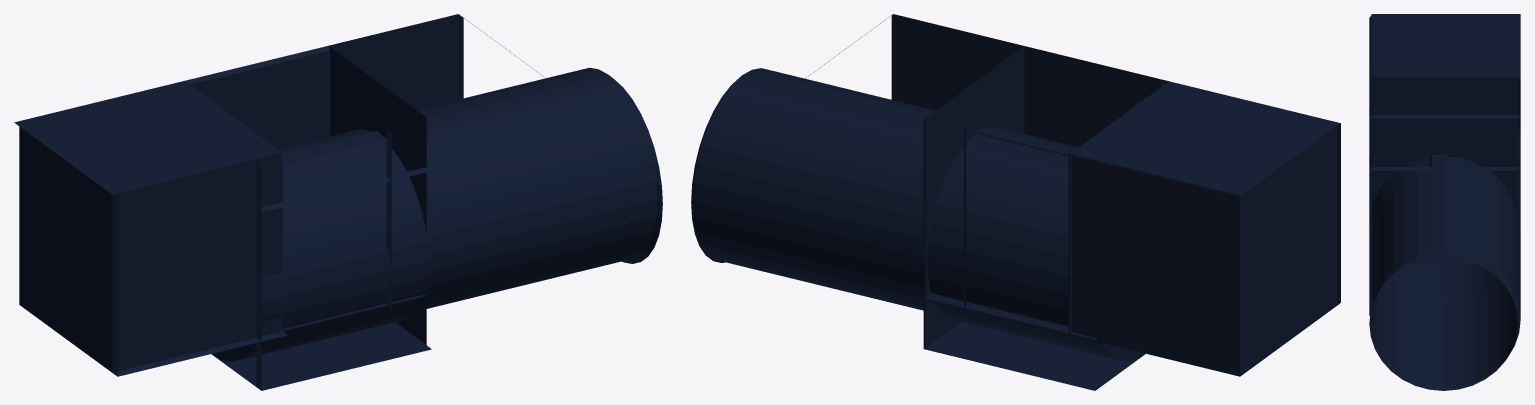
The model's file is Tunel.glb.
3 views of the same model, side by side, from view 1: azimuth 30°, elevation 25°; view 2: azimuth 150°, elevation 25°; view 3: azimuth 270°, elevation 25° (orthographic). The views are drawn at different scales.
Visible parts, largest first — view 1: Cylinder; view 2: Cylinder; view 3: Cylinder.
Part boxes in pixels (box(x1,y1,x2,y2)): Cylinder: box(14, 14, 662, 390); Cylinder: box(691, 14, 1340, 390); Cylinder: box(1369, 14, 1520, 390).
Size of the model in its own units: 6.44 by 2.59 by 2.04.
